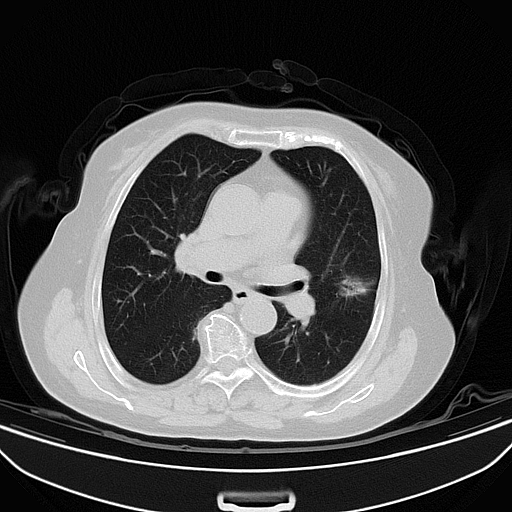nodule: (334, 274, 374, 295)
